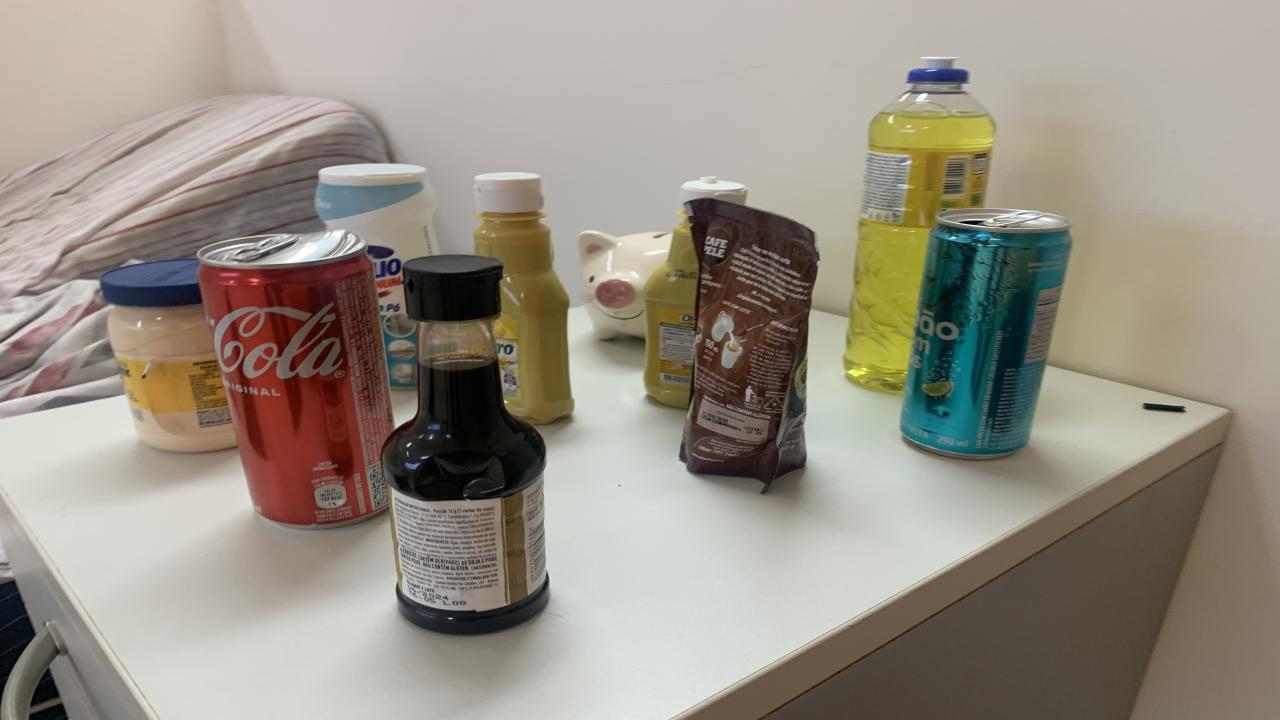Cleaner-Cleanup_Items: (315, 163, 440, 388)
Coffee-Pantry_Items: (680, 199, 818, 491)
Coke-Drinks: (198, 231, 392, 527)
Detergent-Cleanup_Items: (845, 56, 995, 392)
English_Sauce-Pantry_Items: (382, 255, 550, 634)
Mayonnaise-Pantry_Items: (100, 259, 235, 452)
Mustard-Pantry_Items: (472, 172, 572, 424), (645, 210, 698, 409), (680, 176, 748, 204)
Pig_Safe-Miscellaneous: (578, 231, 672, 339)
Tea-Drinks: (900, 208, 1072, 458)
